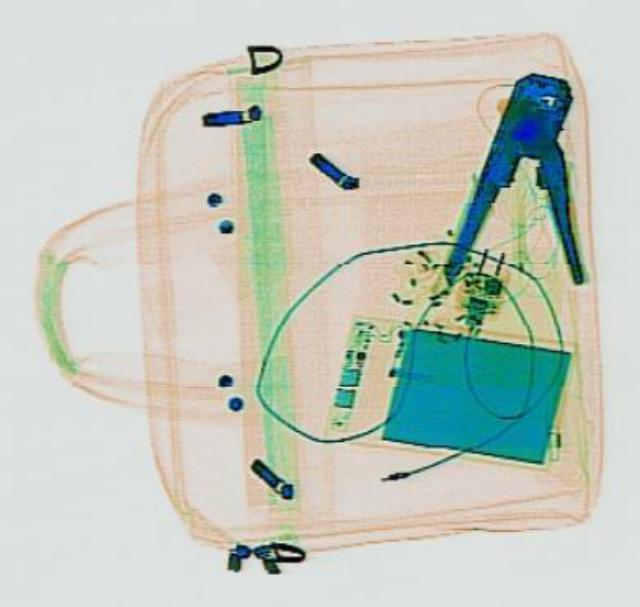Pliers: (440, 63, 612, 291)
